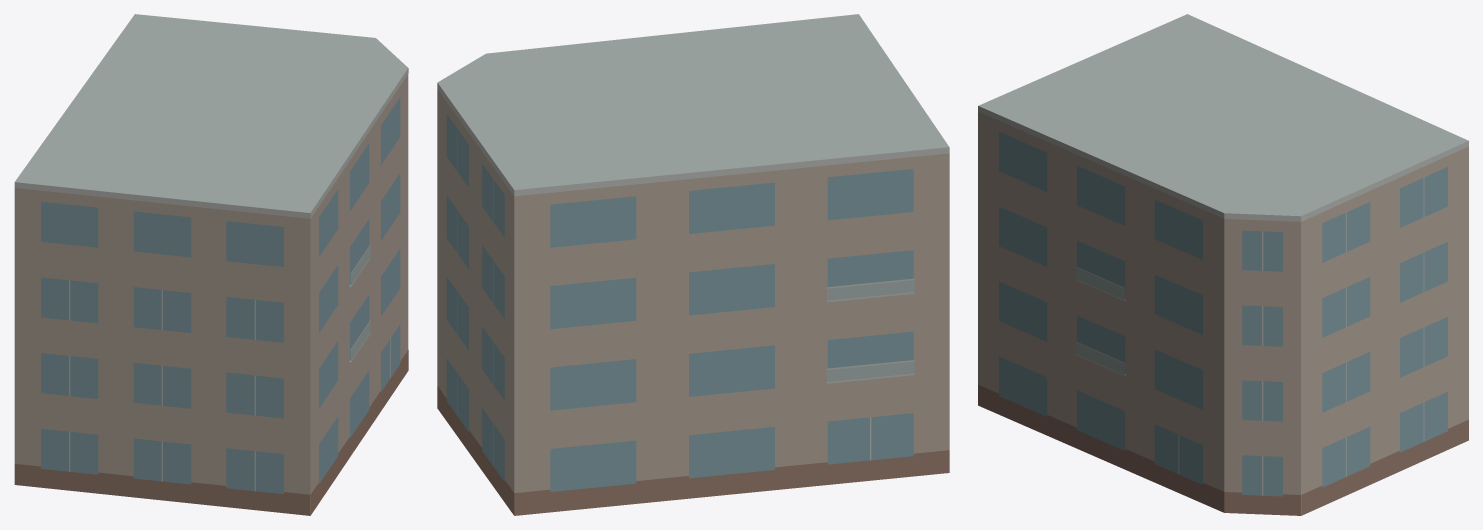
The model's file is survey-upis-32834894.glb.
3 renders of one model, left to right at view 1: azimuth 30°, elevation 25°; view 2: azimuth 150°, elevation 25°; view 3: azimuth 270°, elevation 25°, orthographic. The views are drawn at different scales.
Parts seen in each view (by area): view 1: survey-upis-32834894.tmp; view 2: survey-upis-32834894.tmp; view 3: survey-upis-32834894.tmp.
Part boxes in pixels (<box>): survey-upis-32834894.tmp: <box>14,14,408,515</box>; survey-upis-32834894.tmp: <box>437,14,949,515</box>; survey-upis-32834894.tmp: <box>978,14,1468,515</box>.
Size of the model in its own units: 18.68 by 12.9 by 19.15.
